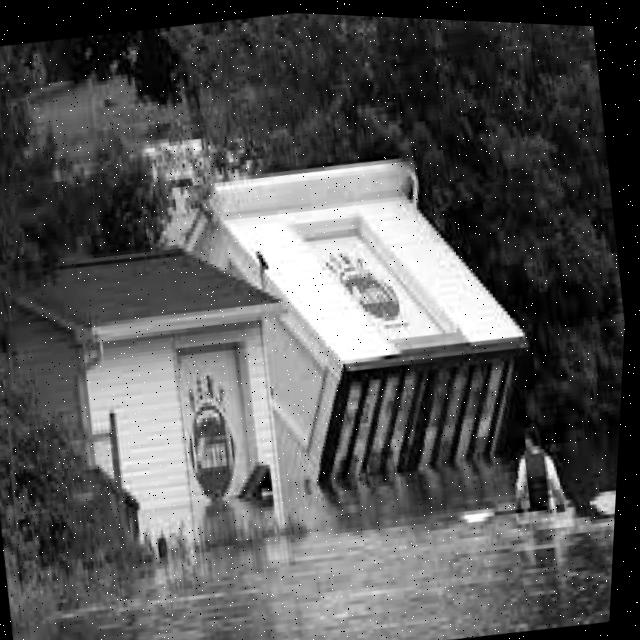civilian: (479, 410, 588, 541)
